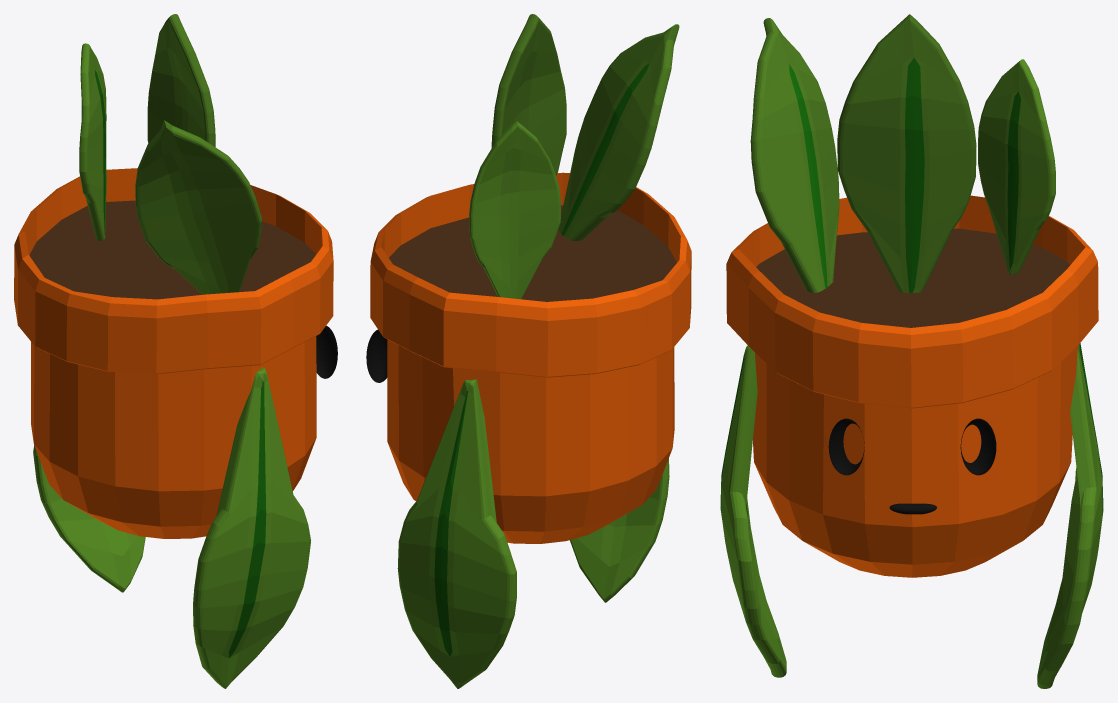
File: macetonio se mueve.fbx
3 views of the same model, side by side, from view 1: azimuth 30°, elevation 25°; view 2: azimuth 150°, elevation 25°; view 3: azimuth 270°, elevation 25° (orthographic). The views are drawn at different scales.
Visible parts, largest first — view 1: Sphere.002; view 2: Sphere.002; view 3: Sphere.002.
Boxes of the visible parts, <box> form: Sphere.002: <box>14,14,337,688</box>; Sphere.002: <box>366,14,691,688</box>; Sphere.002: <box>720,14,1103,688</box>.
Bounding box in the file's own units: 312 × 670 × 347.
Materials: 4 (4 with a texture image).
